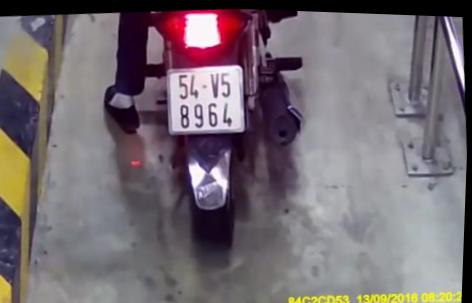LP: (164, 59, 249, 137)
